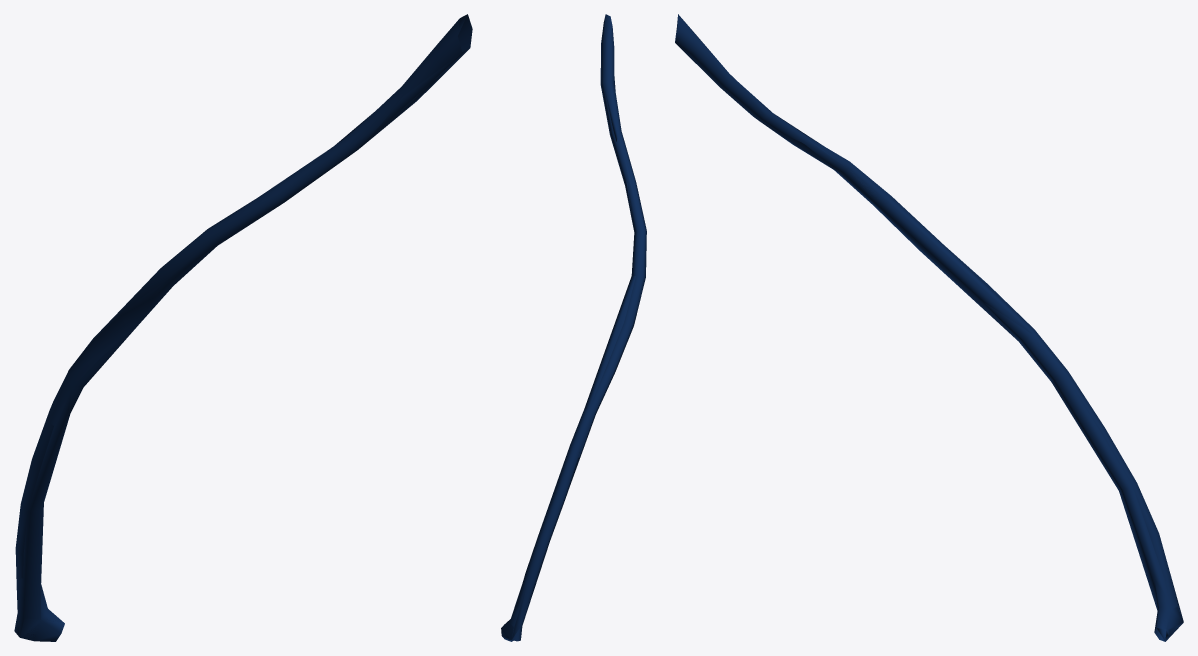
File: L vena saphena medialis.fbx
3 renders of one model, left to right at view 1: azimuth 30°, elevation 25°; view 2: azimuth 150°, elevation 25°; view 3: azimuth 270°, elevation 25°, orthographic. The views are drawn at different scales.
Parts seen in each view (by area): view 1: L vena saphena medialis, L vena saphena medialis low; view 2: L vena saphena medialis, L vena saphena medialis low; view 3: L vena saphena medialis low, L vena saphena medialis.
Boxes of the visible parts, box(x1,y1,x2,y2) form: L vena saphena medialis: box(14, 14, 469, 641); L vena saphena medialis low: box(17, 14, 472, 640); L vena saphena medialis: box(501, 14, 646, 641); L vena saphena medialis low: box(501, 20, 645, 639); L vena saphena medialis low: box(675, 19, 1183, 641); L vena saphena medialis: box(675, 14, 1182, 641).
Size of the model in its own units: 6.09 by 23.54 by 16.06.
